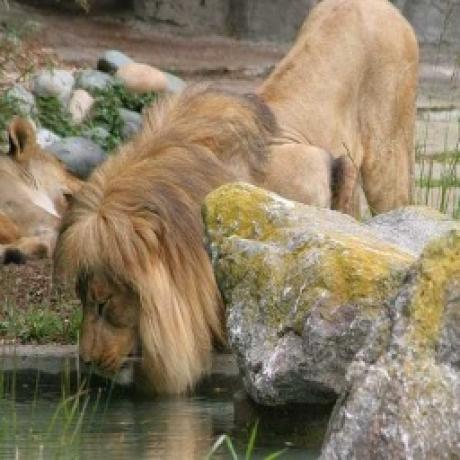Lion: (50, 0, 420, 395)
